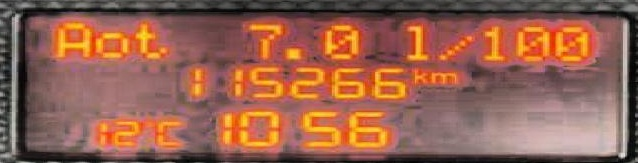-: (283, 45, 303, 59)
0: (236, 107, 282, 148), (316, 22, 362, 58), (549, 24, 589, 61), (514, 24, 549, 61)
1: (480, 23, 507, 62), (216, 109, 234, 145), (187, 66, 205, 97), (227, 67, 245, 97), (96, 119, 107, 145)
2: (287, 65, 322, 99), (109, 119, 138, 145)
5: (298, 109, 342, 148), (247, 64, 282, 98)
6: (345, 108, 389, 147), (327, 65, 365, 99), (369, 65, 407, 99)
7: (243, 21, 283, 61)
X: (131, 20, 169, 59), (51, 20, 89, 58), (91, 30, 129, 58), (434, 34, 476, 59), (400, 23, 429, 59), (154, 118, 183, 147), (427, 70, 458, 84), (407, 67, 427, 84)
